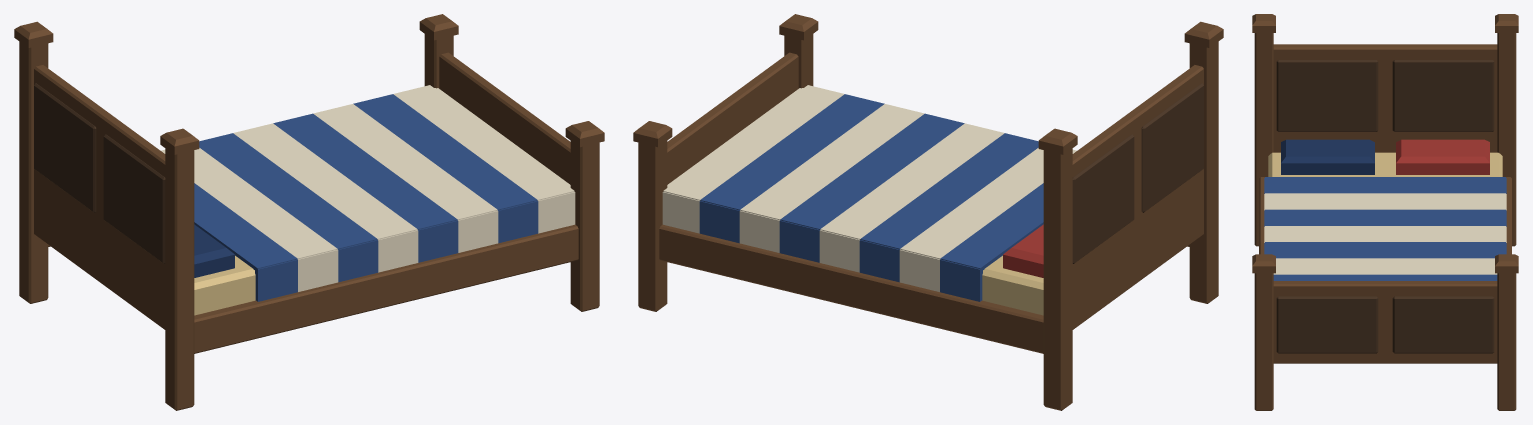
The model's file is mdvl_interiors_bed_01.glb.
3 views of the same model, side by side, from view 1: azimuth 30°, elevation 25°; view 2: azimuth 150°, elevation 25°; view 3: azimuth 270°, elevation 25° (orthographic). The views are drawn at different scales.
Visible parts, largest first — view 1: mdvl_interiors_bed_01; view 2: mdvl_interiors_bed_01; view 3: mdvl_interiors_bed_01.
Part boxes in pixels (<box>): mdvl_interiors_bed_01: <box>14,14,604,410</box>; mdvl_interiors_bed_01: <box>633,14,1223,410</box>; mdvl_interiors_bed_01: <box>1252,14,1518,410</box>.
Size of the model in its own units: 1.97 by 1.19 by 1.27.
Materials: 1 (1 with a texture image).
